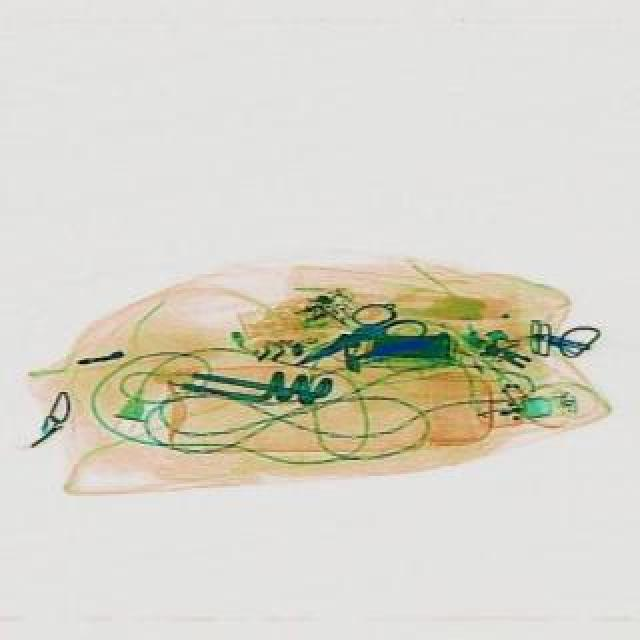pliers: (280, 286, 426, 386)
